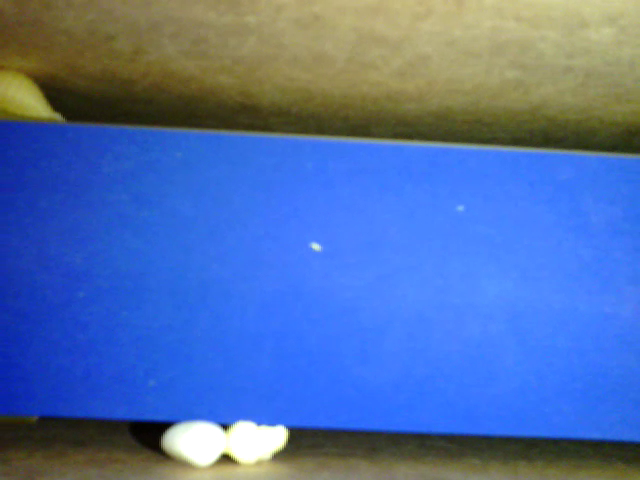shell: (1, 70, 76, 125)
